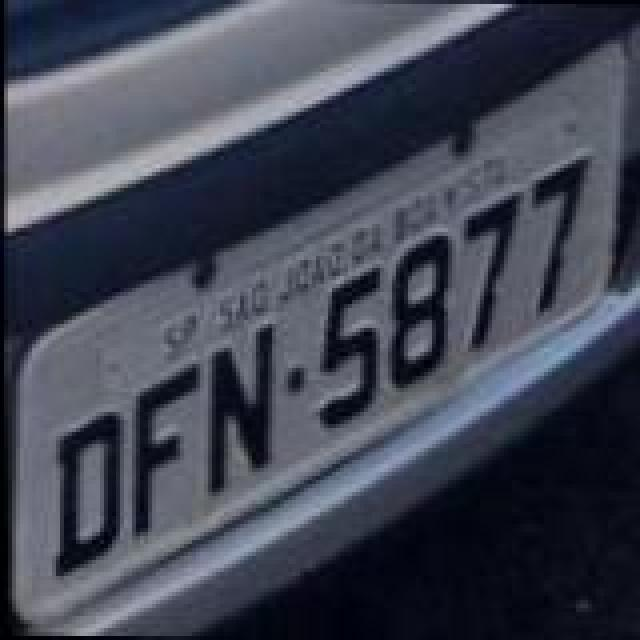5: (314, 260, 382, 428)
7: (458, 190, 526, 358), (526, 154, 594, 318)
8: (386, 234, 454, 394)
D: (46, 412, 126, 588)
F: (124, 358, 204, 542)
N: (198, 320, 278, 500)
